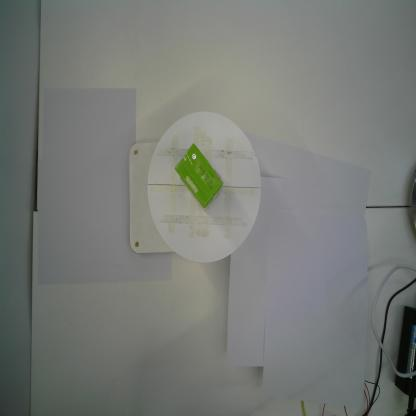Milk: (174, 141, 224, 208)
